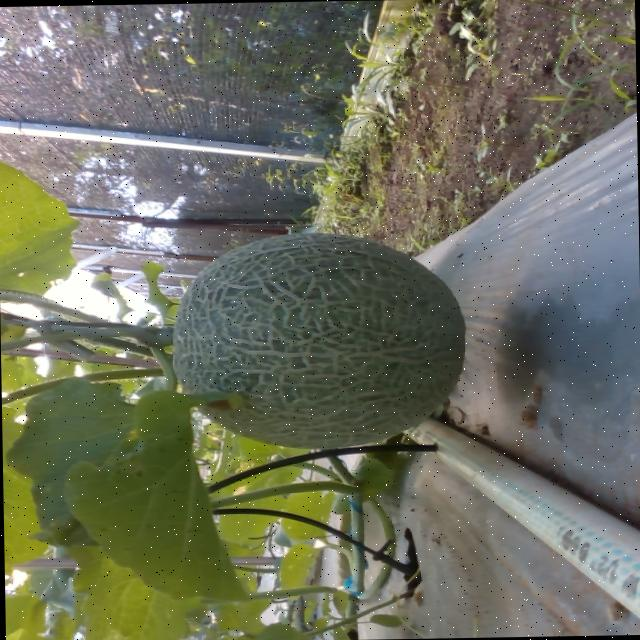melon: (173, 233, 465, 445)
